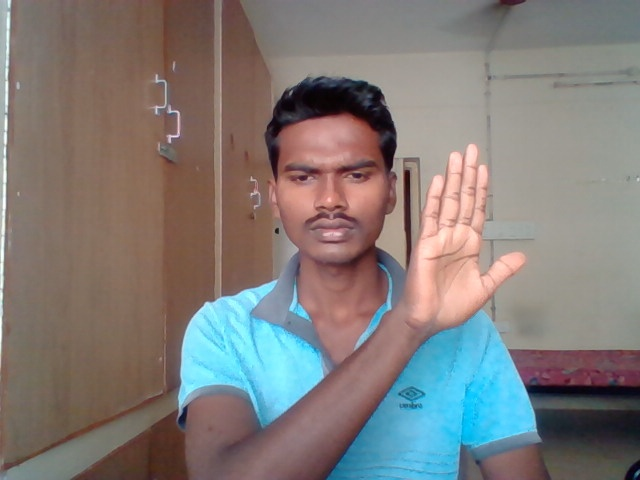Hello: (404, 141, 527, 331)
